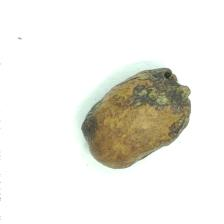NG: (115, 66, 191, 113), (81, 95, 104, 148), (163, 115, 190, 144)
